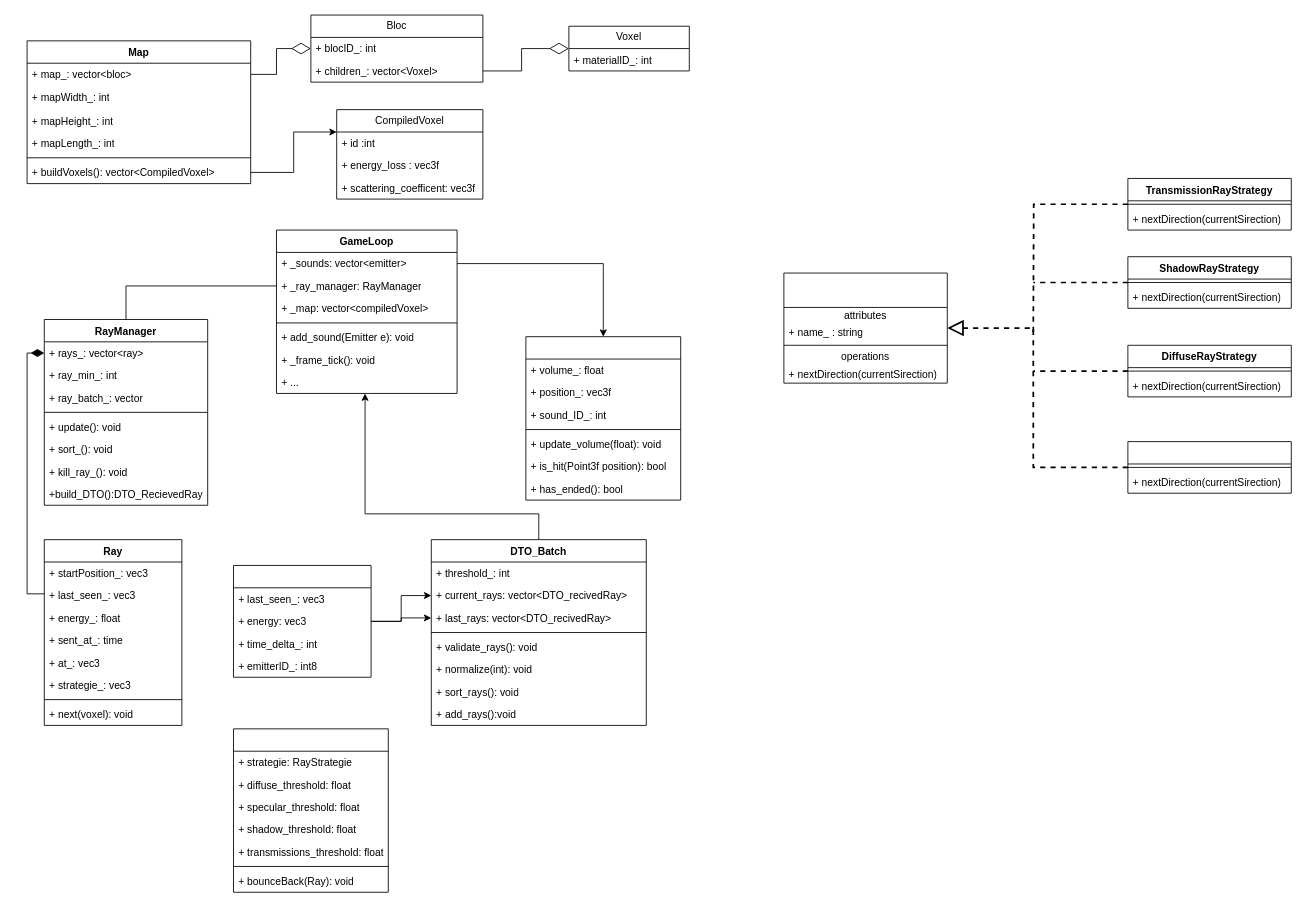
The diagram is 1306 pixels wide and 910 high, and some of its shapes have lost their labels. The box of each missing label's shape, as (x1, y1, x2, y2) in pixels:
DecisionTree: (233, 728, 388, 892)
DTO_RecievedRay: (233, 565, 371, 677)
Emitter: (525, 336, 681, 500)
SpecularRayStrategy: (1127, 441, 1291, 493)
{interface} RayStrategy: (783, 272, 947, 383)
